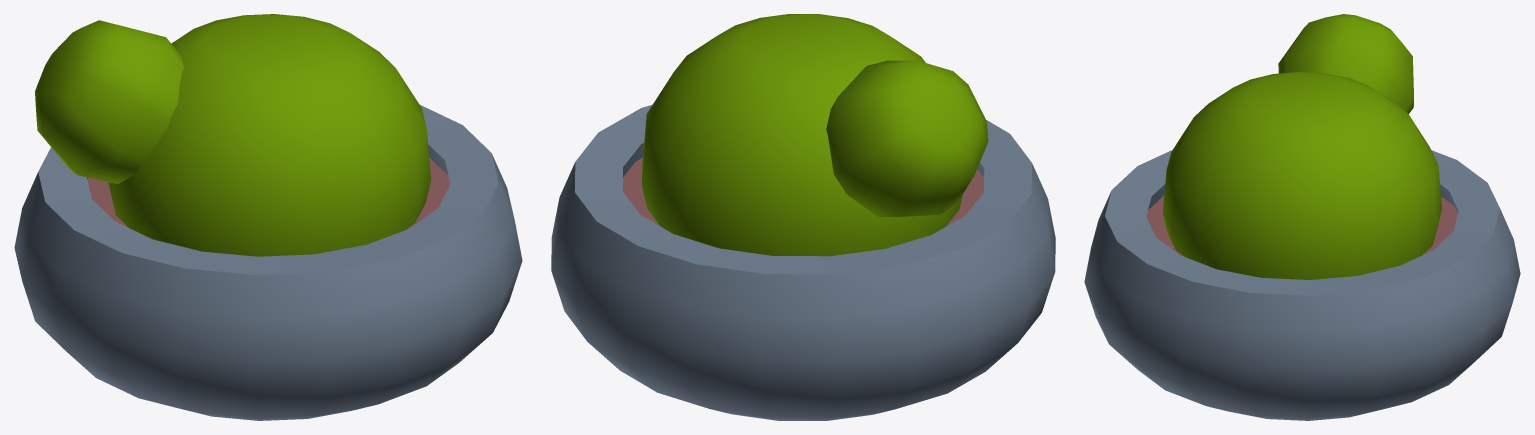
The model's file is plant1.glb.
3 renders of one model, left to right at view 1: azimuth 30°, elevation 25°; view 2: azimuth 150°, elevation 25°; view 3: azimuth 270°, elevation 25°, orthographic. The views are drawn at different scales.
Visible parts, largest first — view 1: Decoration_Plant1; view 2: Decoration_Plant1; view 3: Decoration_Plant1.
Part boxes in pixels (x1,y1,x2,y2): Decoration_Plant1: (14, 14, 522, 420); Decoration_Plant1: (551, 14, 1055, 420); Decoration_Plant1: (1084, 14, 1520, 420).
Bounding box in the file's own units: 1.09 × 0.8377 × 1.09.
